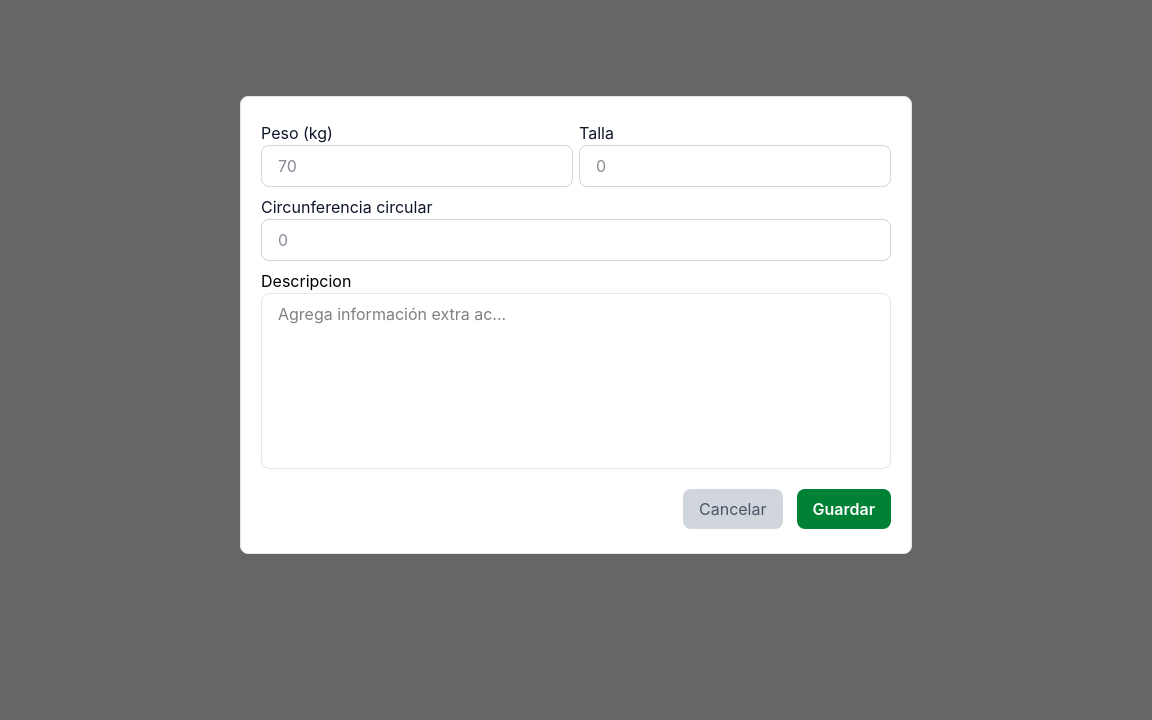
Test: FormularioInforme › Modo creacion › muestra errores de campos obligatorios al intentar guardar con el formulario vacío
The image size is (1152, 720).
Click the button "Guardar": (844, 509) [796,489,891,529]
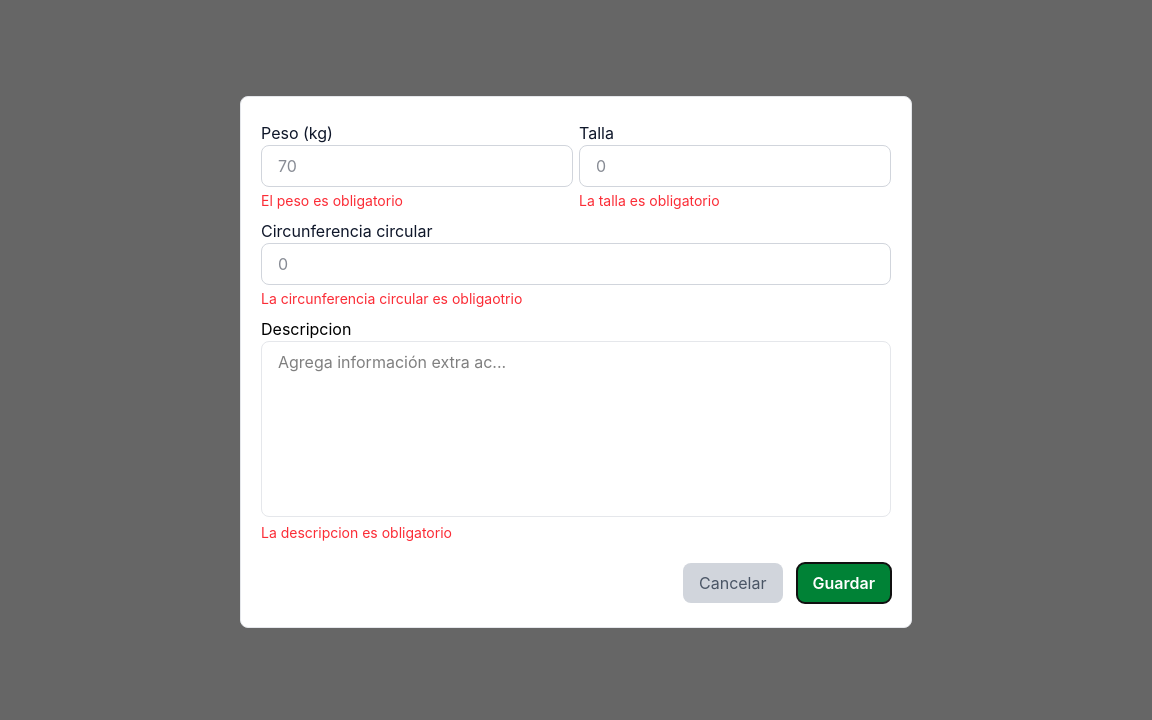
Expected: the text "El peso es obligatorio" is shown, [261,192,403,209]
Expected: the text "La talla es obligatorio" is shown, [579,192,720,209]
Expected: the text "La circunferencia circular es obligaotrio" is shown, [261,290,522,307]
